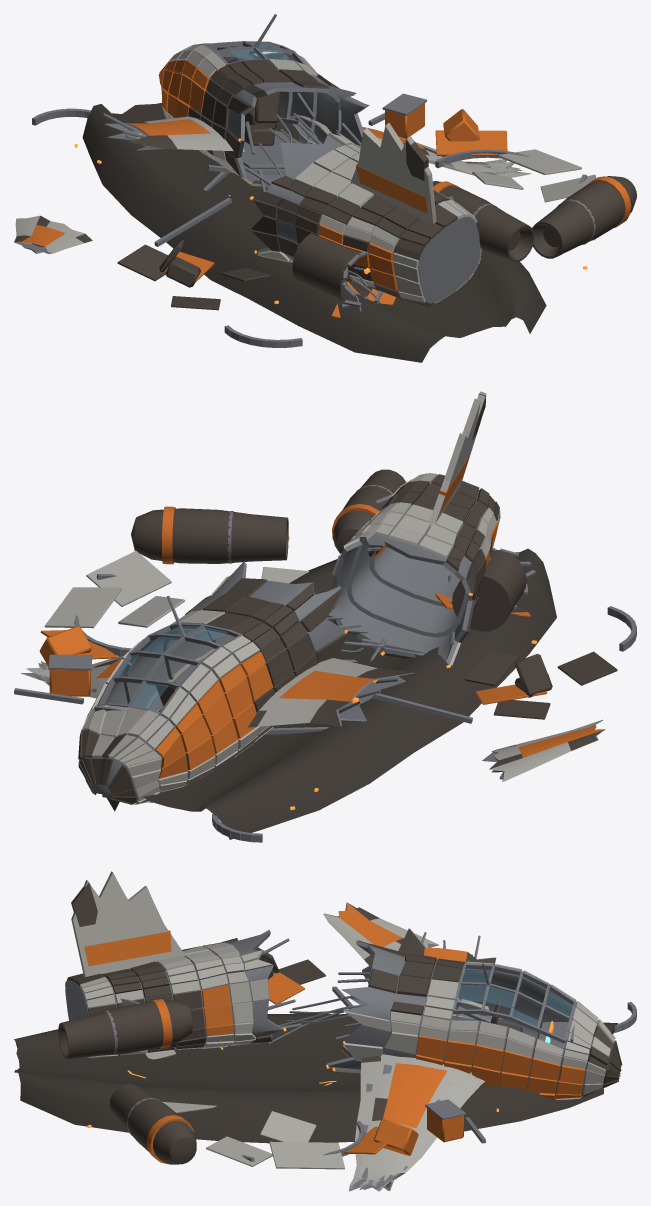
The model's file is crashed_ship_a.glb.
3 views of the same model, one above another, from view 1: azimuth 30°, elevation 25°; view 2: azimuth 150°, elevation 25°; view 3: azimuth 270°, elevation 25° (orthographic). The views are drawn at different scales.
Visible parts, largest first — view 1: Wreck, Scar; view 2: Wreck, Scar; view 3: Wreck, Scar.
Boxes of the visible parts, bbox=[...] form: Wreck: bbox=[14, 14, 636, 347]; Scar: bbox=[82, 103, 546, 362]; Wreck: bbox=[14, 391, 636, 842]; Scar: bbox=[107, 548, 556, 839]; Wreck: bbox=[58, 871, 636, 1191]; Scar: bbox=[14, 1013, 617, 1143].
Bounding box in the file's own units: 13.85 × 5.25 × 15.13.
